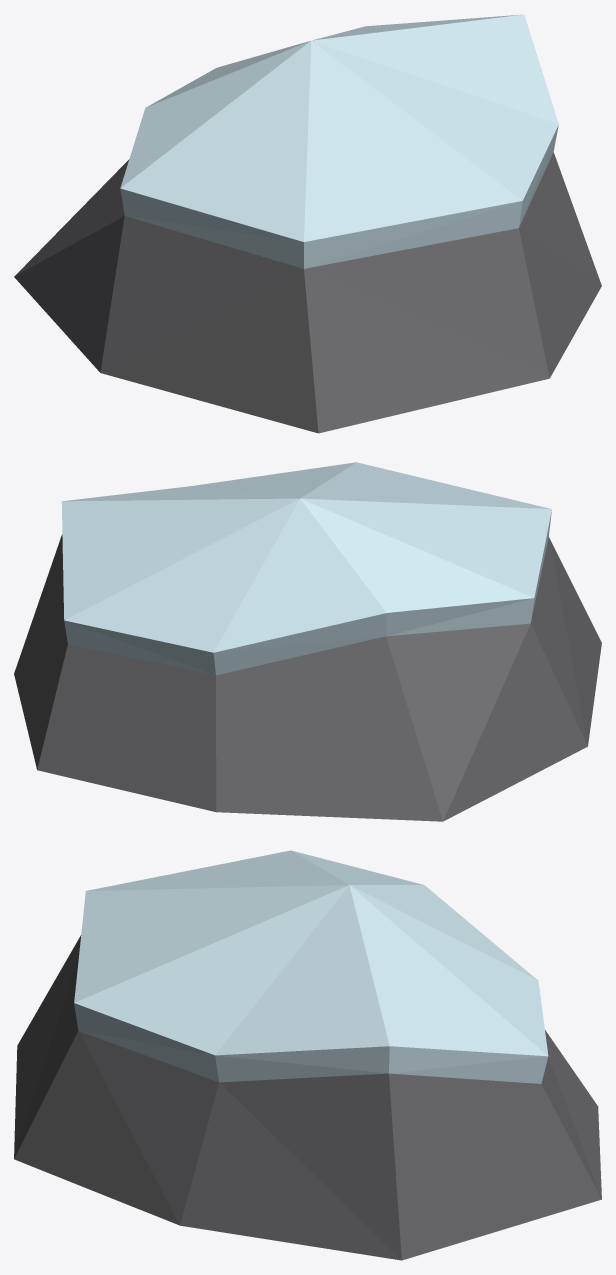
File: SM_Env_Stone_01_Snow.fbx
The picture shows the model from 3 angles, top to bottom: view 1: azimuth 30°, elevation 25°; view 2: azimuth 150°, elevation 25°; view 3: azimuth 270°, elevation 25°; orthographic projection. The views are drawn at different scales.
Parts seen in each view (by area): view 1: SM_Env_Stone_01_Snow; view 2: SM_Env_Stone_01_Snow; view 3: SM_Env_Stone_01_Snow.
Boxes of the visible parts, bbox=[...] form: SM_Env_Stone_01_Snow: bbox=[14, 14, 601, 433]; SM_Env_Stone_01_Snow: bbox=[14, 462, 601, 821]; SM_Env_Stone_01_Snow: bbox=[14, 850, 601, 1260].
Bounding box in the file's own units: 55.82 × 23.37 × 52.31.
